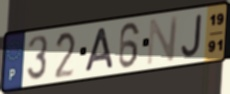2: (52, 30, 79, 80)
3: (26, 34, 49, 82)
6: (117, 20, 142, 70)
A: (83, 26, 115, 74)
J: (180, 12, 204, 59)
N: (145, 14, 180, 68)
